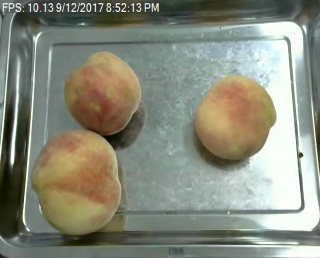Peach: (33, 128, 122, 236), (194, 75, 276, 162), (63, 49, 141, 135)
